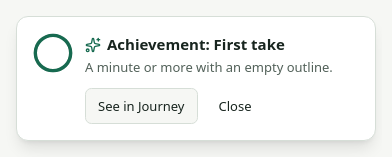
Scenario: CelebrationHost (9.10) › shows one card at a time in order
The image size is (392, 157).
Check: the text "Achievement: First take" is shown, box 85,34 -> 285,54
Check: the text "Achievement: Third time" is not shown
Click the button "Close". click: x=235, y=106
box: 206,88 -> 264,124
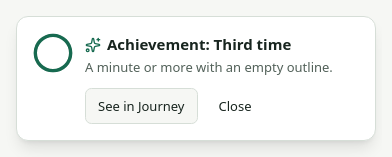
Check: the text "Achievement: Third time" is shown, box 85,34 -> 291,54
